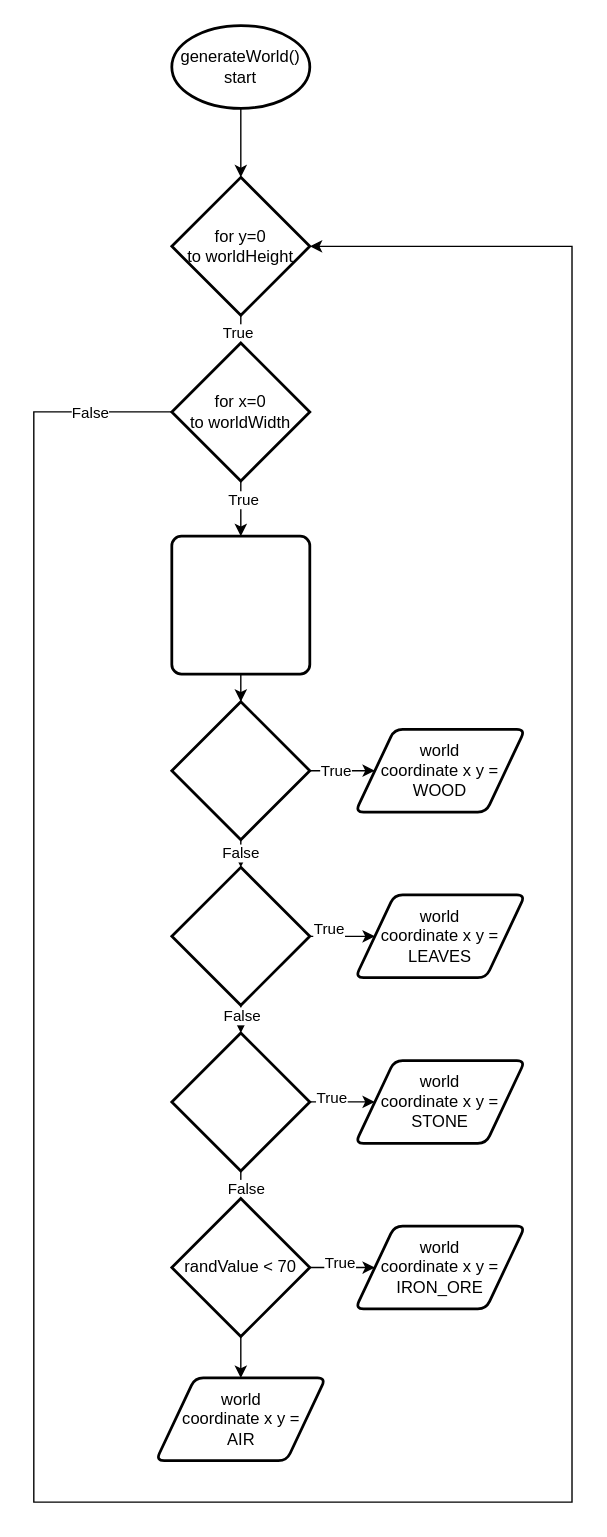
The diagram is 607 pixels wide and 1537 high, and some of its shapes have lost their labels. Here are the shapes that lost their labels. From the top down, the centre of each, then its label:
At point (240, 604): "Generate random number randValue 0-100".
At point (240, 770): "randValue < 20".
At point (240, 935): "randValue < 35".
At point (240, 1101): "randValue < 50".
